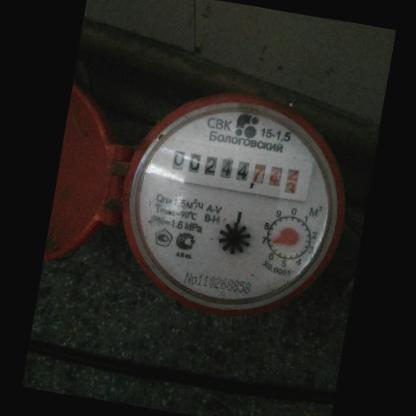digital_screen: (161, 136, 256, 195)
